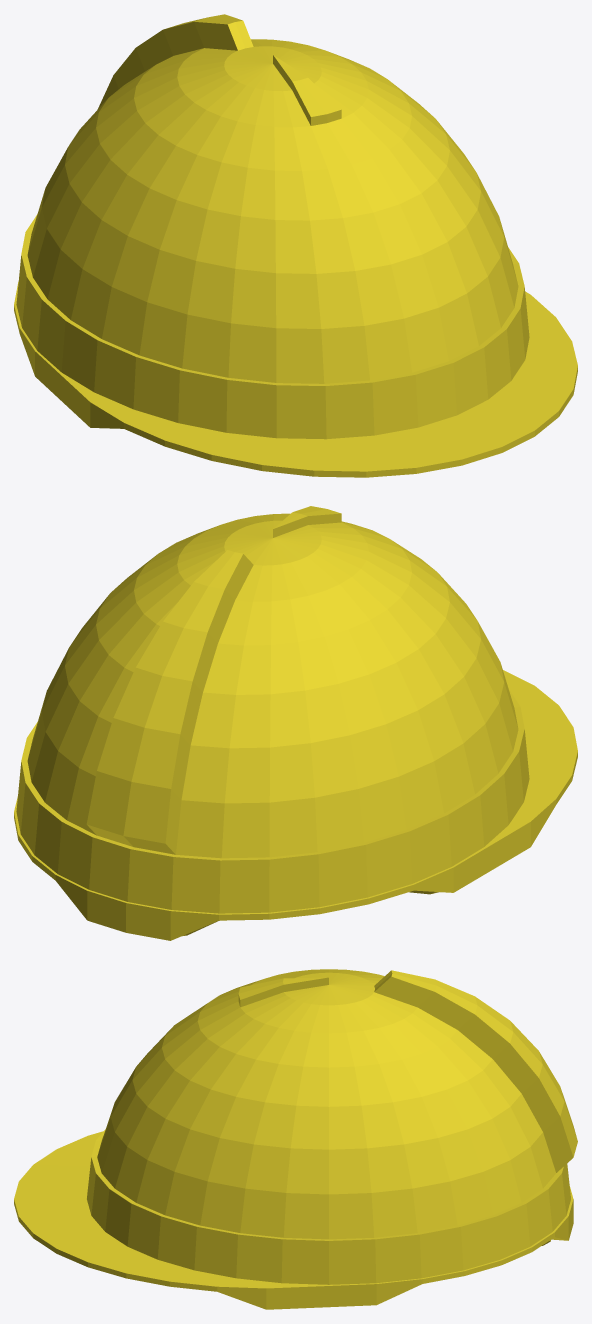
Rendered from helmet.glb.
The picture shows the model from 3 angles, top to bottom: view 1: azimuth 30°, elevation 25°; view 2: azimuth 150°, elevation 25°; view 3: azimuth 270°, elevation 25°; orthographic projection. The views are drawn at different scales.
Parts seen in each view (by area): view 1: 球体; view 2: 球体; view 3: 球体.
Part boxes in pixels (x1,y1,x2,y2): 球体: [14, 14, 577, 477]; 球体: [14, 506, 577, 940]; 球体: [14, 969, 577, 1309].
Size of the model in its own units: 1.79 by 1.21 by 2.39.
